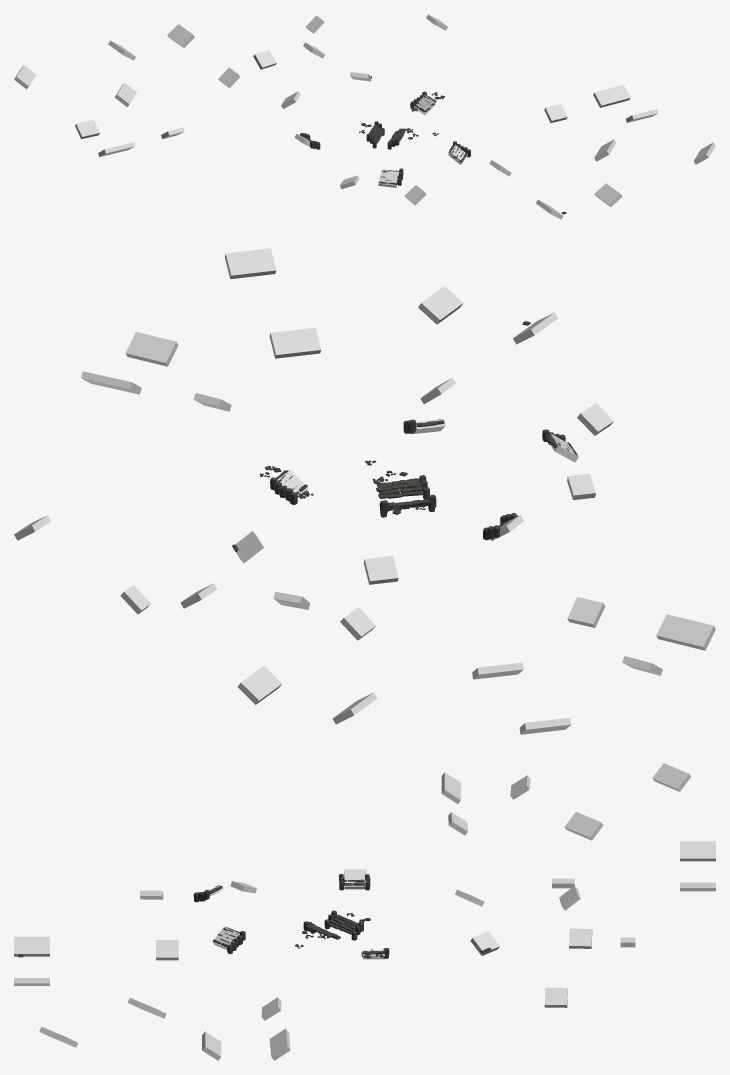
The model's file is Stairs.fbx.
3 renders of one model, top to bottom at view 1: azimuth 30°, elevation 25°; view 2: azimuth 150°, elevation 25°; view 3: azimuth 270°, elevation 25°, orthographic. The views are drawn at different scales.
Visible parts, largest first — view 1: Cube_3, Cube_7, Cube_21, Cube_16; view 2: Cube_17, Cube_8, Cube_5, Cube_4, Cube_7, Cube_21, Cube_12, Cube_18; view 3: Cube_20, Cube_6, Cube_15, Cube_19, Cube_25, Cube_27, Cube_3, Cube_23.
Part boxes in pixels (x1,y1,x2,y2): Cube_3: (593, 85, 630, 107); Cube_7: (594, 183, 622, 206); Cube_21: (167, 24, 194, 48); Cube_16: (75, 119, 99, 139); Cube_17: (656, 614, 715, 650); Cube_8: (224, 248, 276, 279); Cube_5: (269, 327, 321, 358); Cube_4: (125, 332, 178, 366); Cube_7: (418, 286, 463, 324); Cube_21: (237, 665, 282, 704); Cube_12: (363, 556, 398, 584); Cube_18: (567, 597, 605, 627); Cube_20: (680, 841, 715, 861); Cube_6: (14, 936, 49, 956); Cube_15: (564, 812, 603, 840); Cube_19: (652, 763, 690, 791); Cube_25: (544, 987, 567, 1007); Cube_27: (156, 940, 178, 960); Cube_3: (269, 1028, 290, 1060); Cube_23: (569, 928, 592, 948).
Size of the model in its own units: 12014 by 651 by 12901.
Materials: 2 (1 with a texture image).
